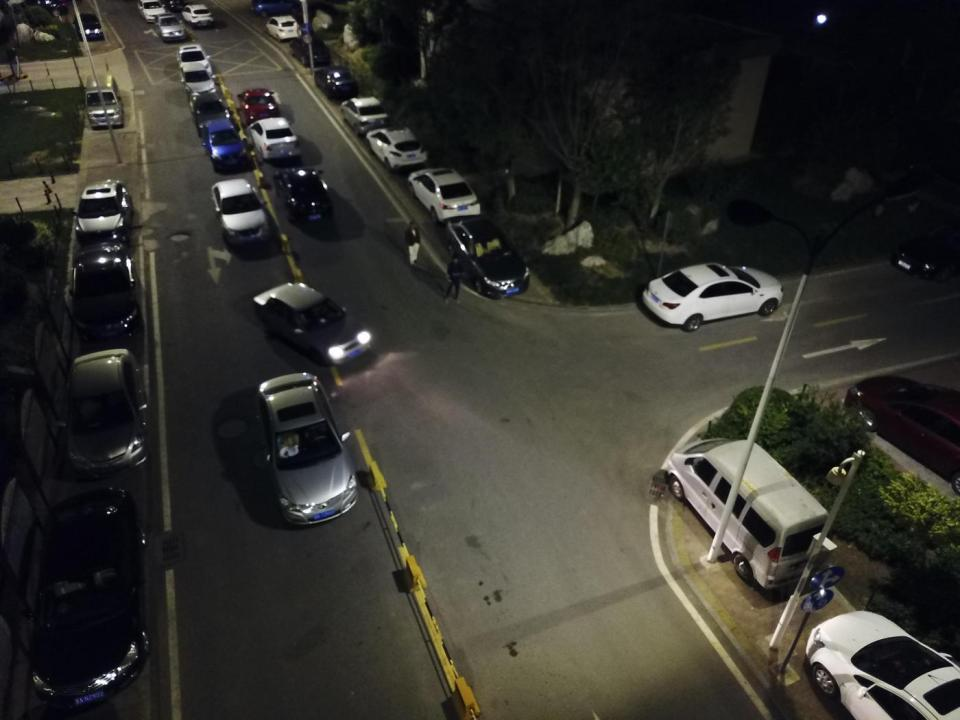car: (33, 485, 157, 709), (802, 610, 960, 719), (255, 368, 359, 528), (841, 375, 960, 498), (61, 346, 152, 474), (641, 258, 784, 332), (252, 280, 374, 365), (442, 213, 532, 302), (68, 243, 144, 346), (888, 220, 960, 284), (408, 166, 480, 224), (76, 178, 134, 248), (209, 178, 269, 244), (273, 166, 335, 226), (364, 128, 428, 172), (198, 118, 246, 171), (252, 118, 300, 165), (343, 93, 391, 133), (233, 83, 281, 123), (314, 66, 359, 105), (290, 32, 333, 67), (192, 90, 230, 125), (174, 43, 214, 75), (181, 61, 218, 95), (152, 12, 189, 42), (265, 14, 302, 40), (72, 12, 105, 40), (182, 3, 214, 31), (135, 0, 170, 23)
van: (666, 436, 830, 589), (82, 73, 124, 129)
